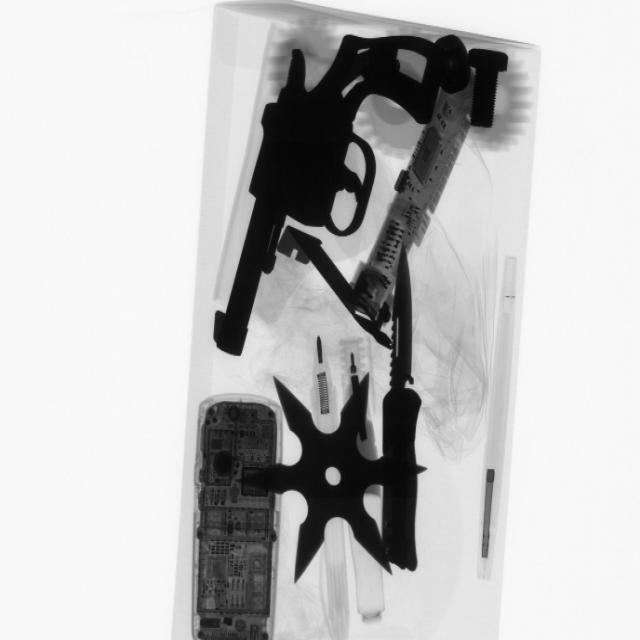GUN: (206, 21, 451, 355)
KNIFE: (372, 248, 440, 588)
SHURIKEN: (250, 366, 399, 582)
